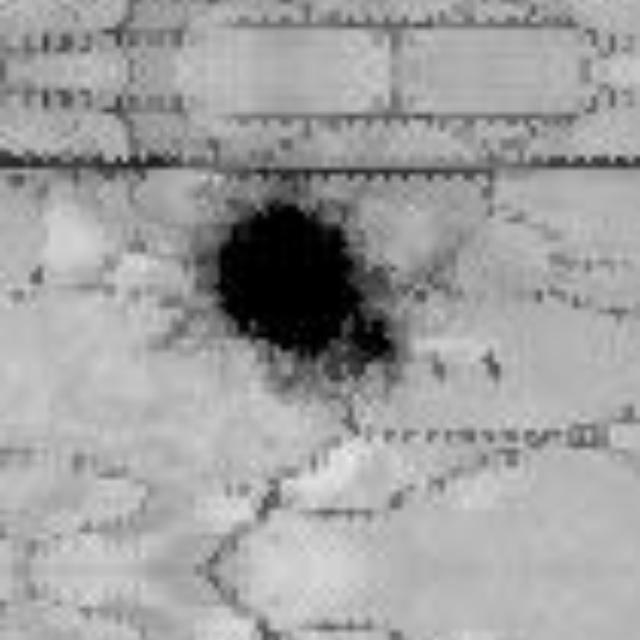good_void: (178, 180, 405, 402)
